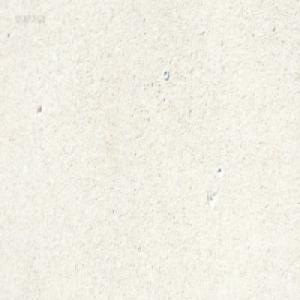Washer: (162, 69, 169, 80)
